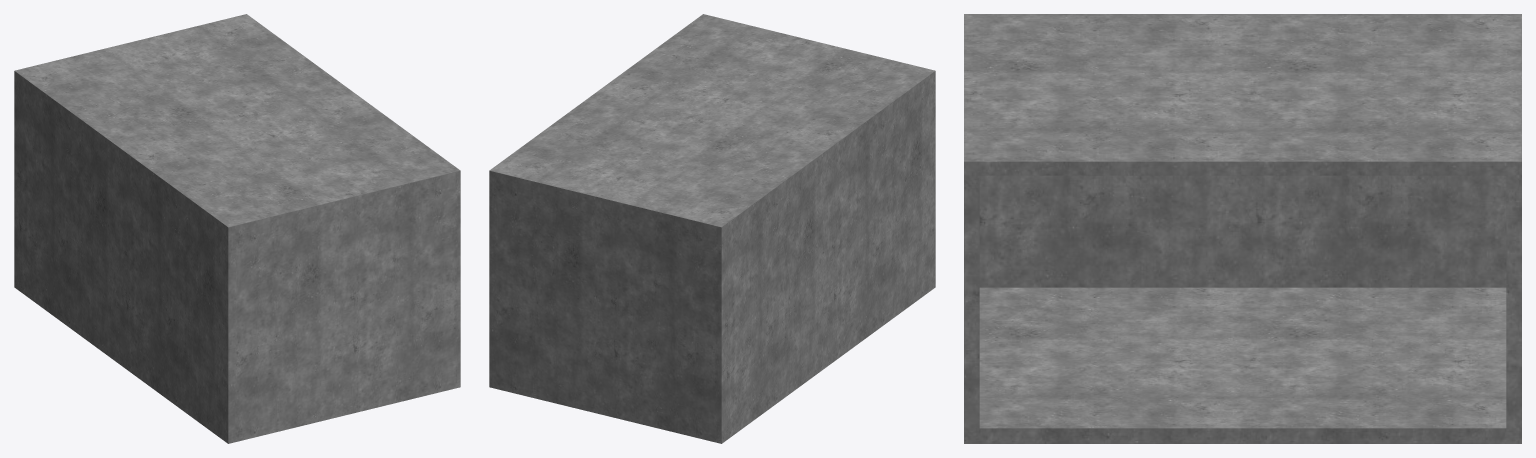
File: Pipe_Room.fbx
The picture shows the model from 3 angles, left to right: view 1: azimuth 30°, elevation 25°; view 2: azimuth 150°, elevation 25°; view 3: azimuth 270°, elevation 25°; orthographic projection. The views are drawn at different scales.
Visible parts, largest first — view 1: Pipe_Room; view 2: Pipe_Room; view 3: Pipe_Room.
Part boxes in pixels (x1,y1,x2,y2): Pipe_Room: (14, 14, 460, 443); Pipe_Room: (489, 14, 935, 443); Pipe_Room: (964, 14, 1521, 443).
Bounding box in the file's own units: 4.33 × 3.86 × 6.91.
1 material, 1 textured.
